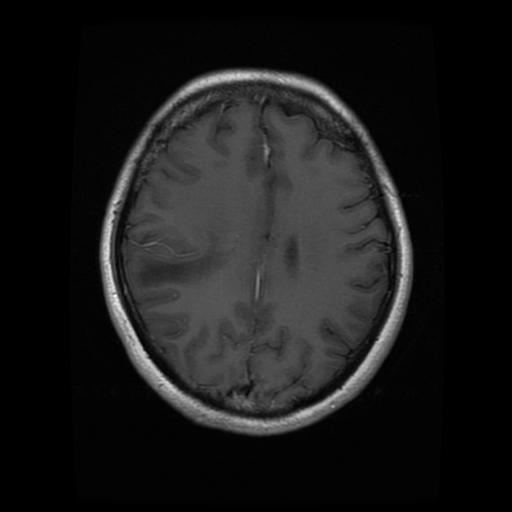Gliomia_tumour: (139, 238, 228, 284)
